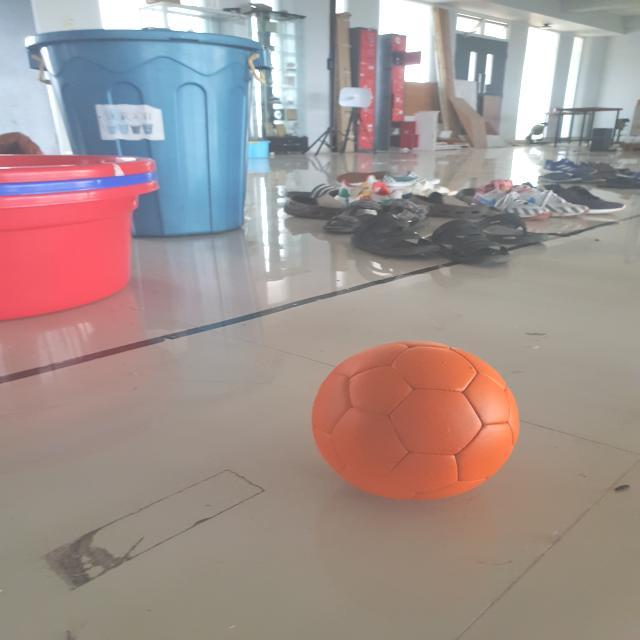bola: (294, 328, 525, 513)
